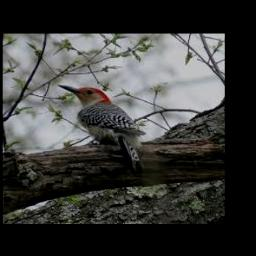Woodpecker: (57, 84, 145, 171)
